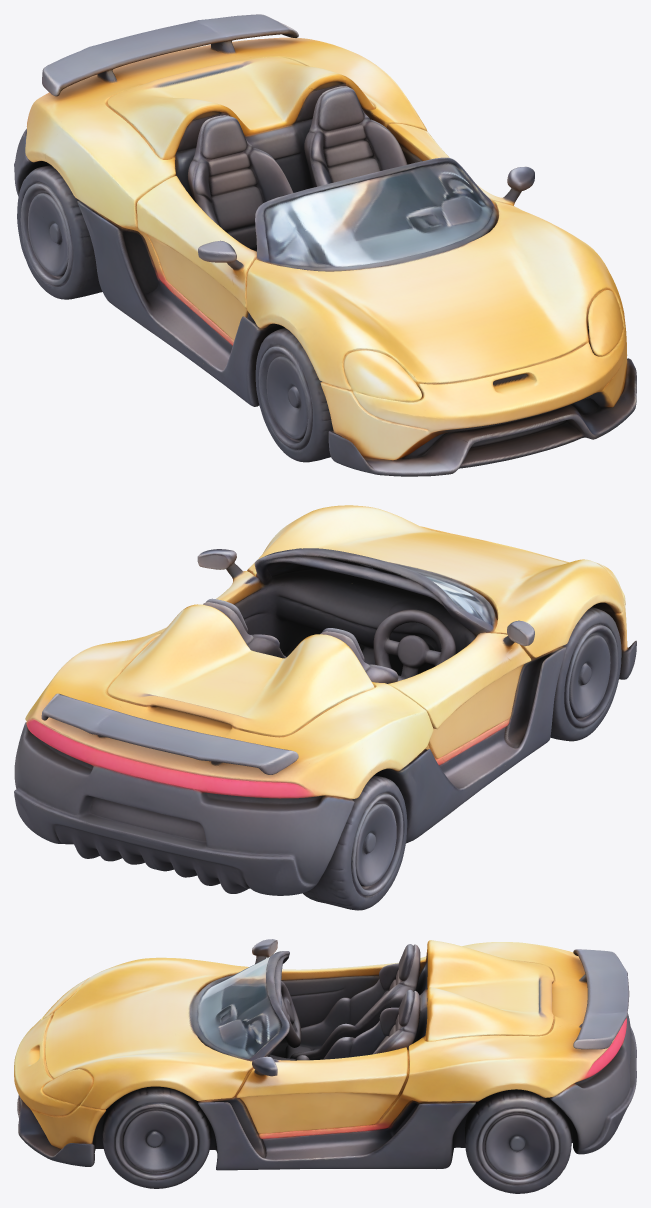
The model's file is bolt-original.glb.
3 views of the same model, one above another, from view 1: azimuth 30°, elevation 25°; view 2: azimuth 150°, elevation 25°; view 3: azimuth 270°, elevation 25° (orthographic). The views are drawn at different scales.
Visible parts, largest first — view 1: model; view 2: model; view 3: model.
Boxes of the visible parts, bbox=[...] form: model: bbox=[14, 14, 636, 476]; model: bbox=[14, 505, 636, 910]; model: bbox=[14, 939, 636, 1193].
Size of the model in its own units: 0.9355 by 0.5534 by 1.89.
Materials: 1 (1 with a texture image).
